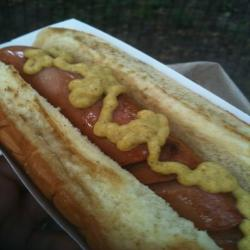hotdog: (1, 27, 248, 248)
